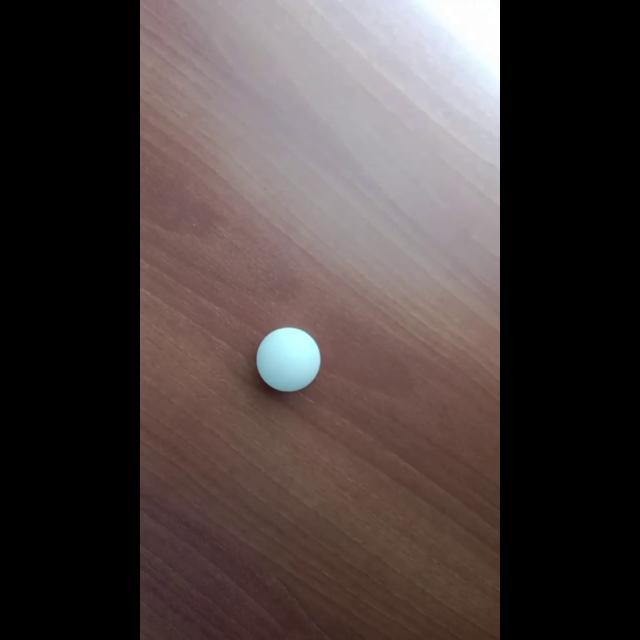white ball: (256, 327, 320, 393)
